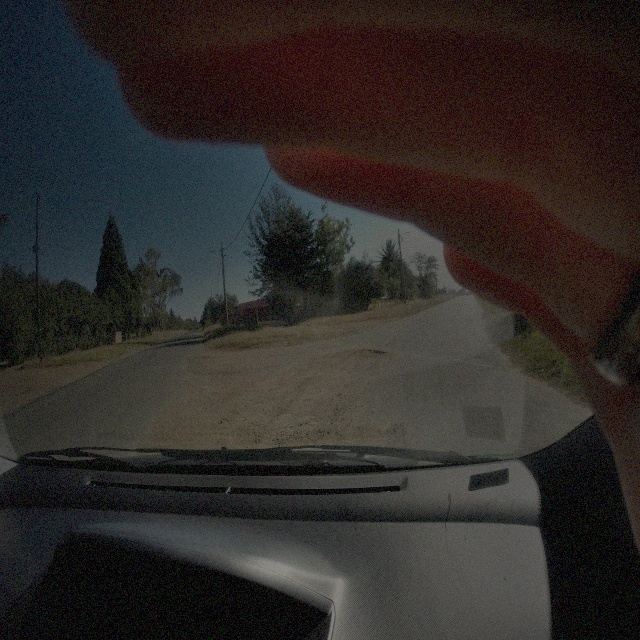pothole: (352, 346, 388, 356), (187, 354, 210, 361)
